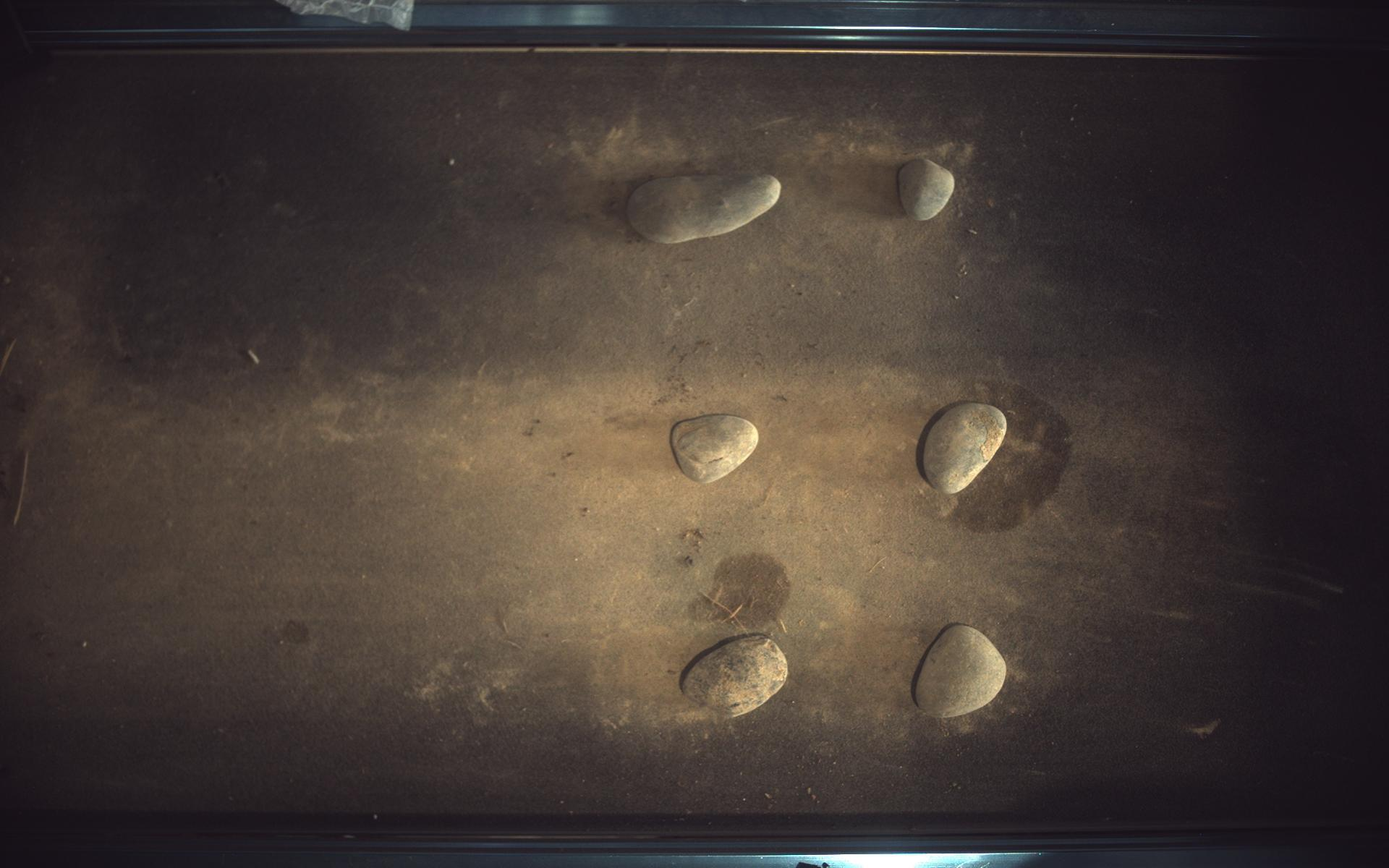stone: (628, 173, 782, 243), (682, 636, 789, 718), (916, 625, 1008, 719), (925, 403, 1009, 495), (671, 414, 760, 484), (901, 158, 956, 220)
